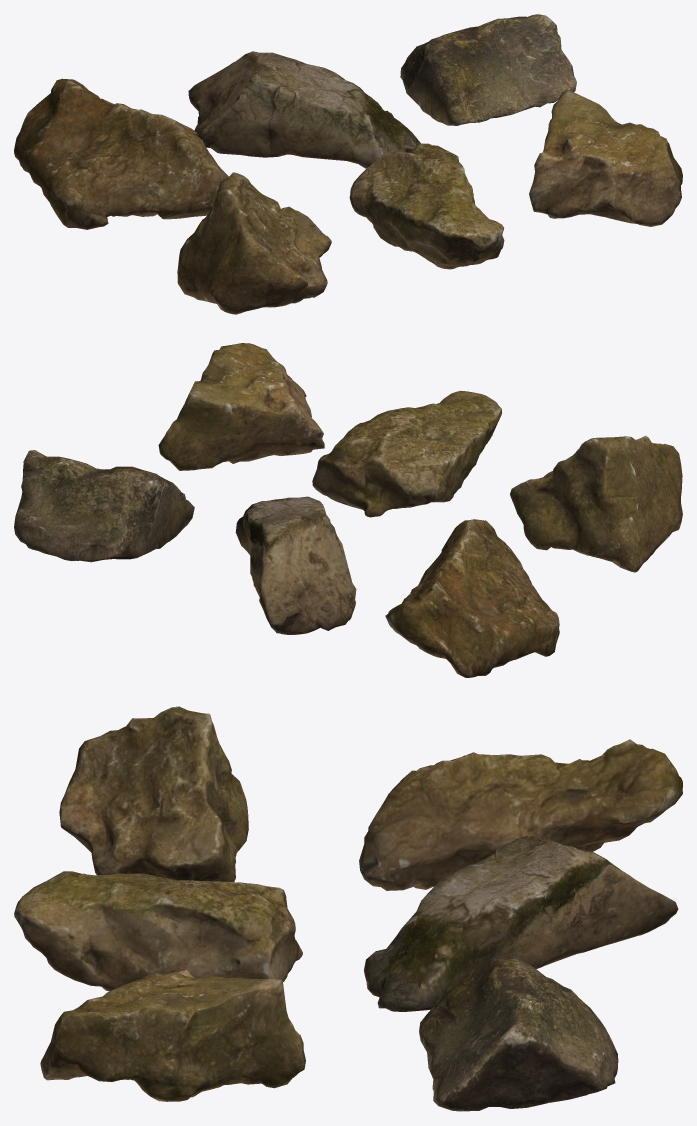
Rendered from prop_rock_moss_cluster_a.glb.
3 renders of one model, top to bottom at view 1: azimuth 30°, elevation 25°; view 2: azimuth 150°, elevation 25°; view 3: azimuth 270°, elevation 25°, orthographic. The views are drawn at different scales.
Visible parts, largest first — view 1: rock_moss_set_01_rock01, rock_moss_set_01_rock02, rock_moss_set_01_rock06, rock_moss_set_01_rock04, rock_moss_set_01_rock03, rock_moss_set_01_rock05; view 2: rock_moss_set_01_rock04, rock_moss_set_01_rock01, rock_moss_set_01_rock05, rock_moss_set_01_rock03, rock_moss_set_01_rock06, rock_moss_set_01_rock02; view 3: rock_moss_set_01_rock01, rock_moss_set_01_rock02, rock_moss_set_01_rock05, rock_moss_set_01_rock04, rock_moss_set_01_rock06, rock_moss_set_01_rock03.
Boxes of the visible parts, x1=… form: rock_moss_set_01_rock01: x1=14, y1=78, x2=228, y2=229; rock_moss_set_01_rock02: x1=188, y1=51, x2=420, y2=168; rock_moss_set_01_rock06: x1=529, y1=89, x2=682, y2=226; rock_moss_set_01_rock04: x1=177, y1=172, x2=331, y2=314; rock_moss_set_01_rock03: x1=400, y1=14, x2=576, y2=125; rock_moss_set_01_rock05: x1=349, y1=143, x2=504, y2=269; rock_moss_set_01_rock04: x1=510, y1=435, x2=682, y2=572; rock_moss_set_01_rock01: x1=385, y1=519, x2=559, y2=677; rock_moss_set_01_rock05: x1=312, y1=390, x2=501, y2=517; rock_moss_set_01_rock03: x1=14, y1=450, x2=194, y2=562; rock_moss_set_01_rock06: x1=158, y1=343, x2=324, y2=470; rock_moss_set_01_rock02: x1=235, y1=496, x2=356, y2=634; rock_moss_set_01_rock01: x1=359, y1=739, x2=682, y2=890; rock_moss_set_01_rock02: x1=364, y1=836, x2=678, y2=1011; rock_moss_set_01_rock05: x1=14, y1=871, x2=302, y2=991; rock_moss_set_01_rock04: x1=59, y1=706, x2=248, y2=881; rock_moss_set_01_rock06: x1=40, y1=970, x2=305, y2=1101; rock_moss_set_01_rock03: x1=419, y1=955, x2=618, y2=1111.
Bounding box in the file's own units: 8 × 1.77 × 6.94.
1 material, 1 textured.
